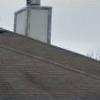Chimney: (5, 1, 65, 44)
